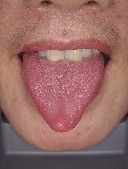tongue: (22, 62, 104, 133)
